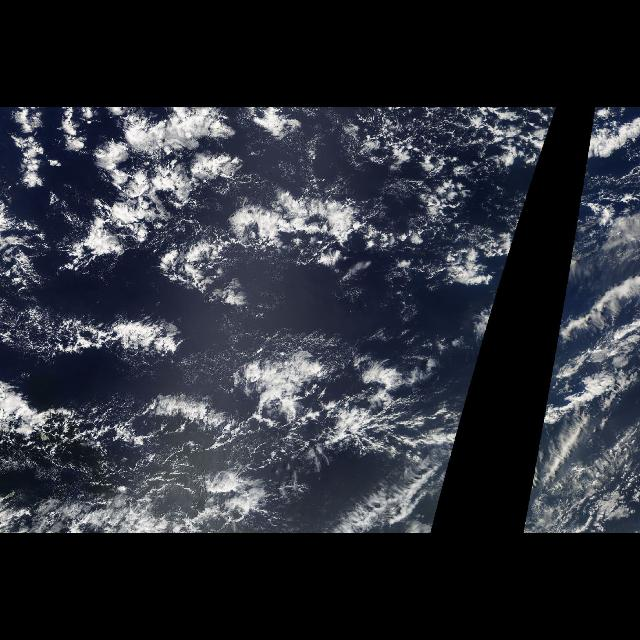Fish: (0, 288, 458, 462)
Flower: (4, 108, 558, 438), (540, 108, 634, 438)
